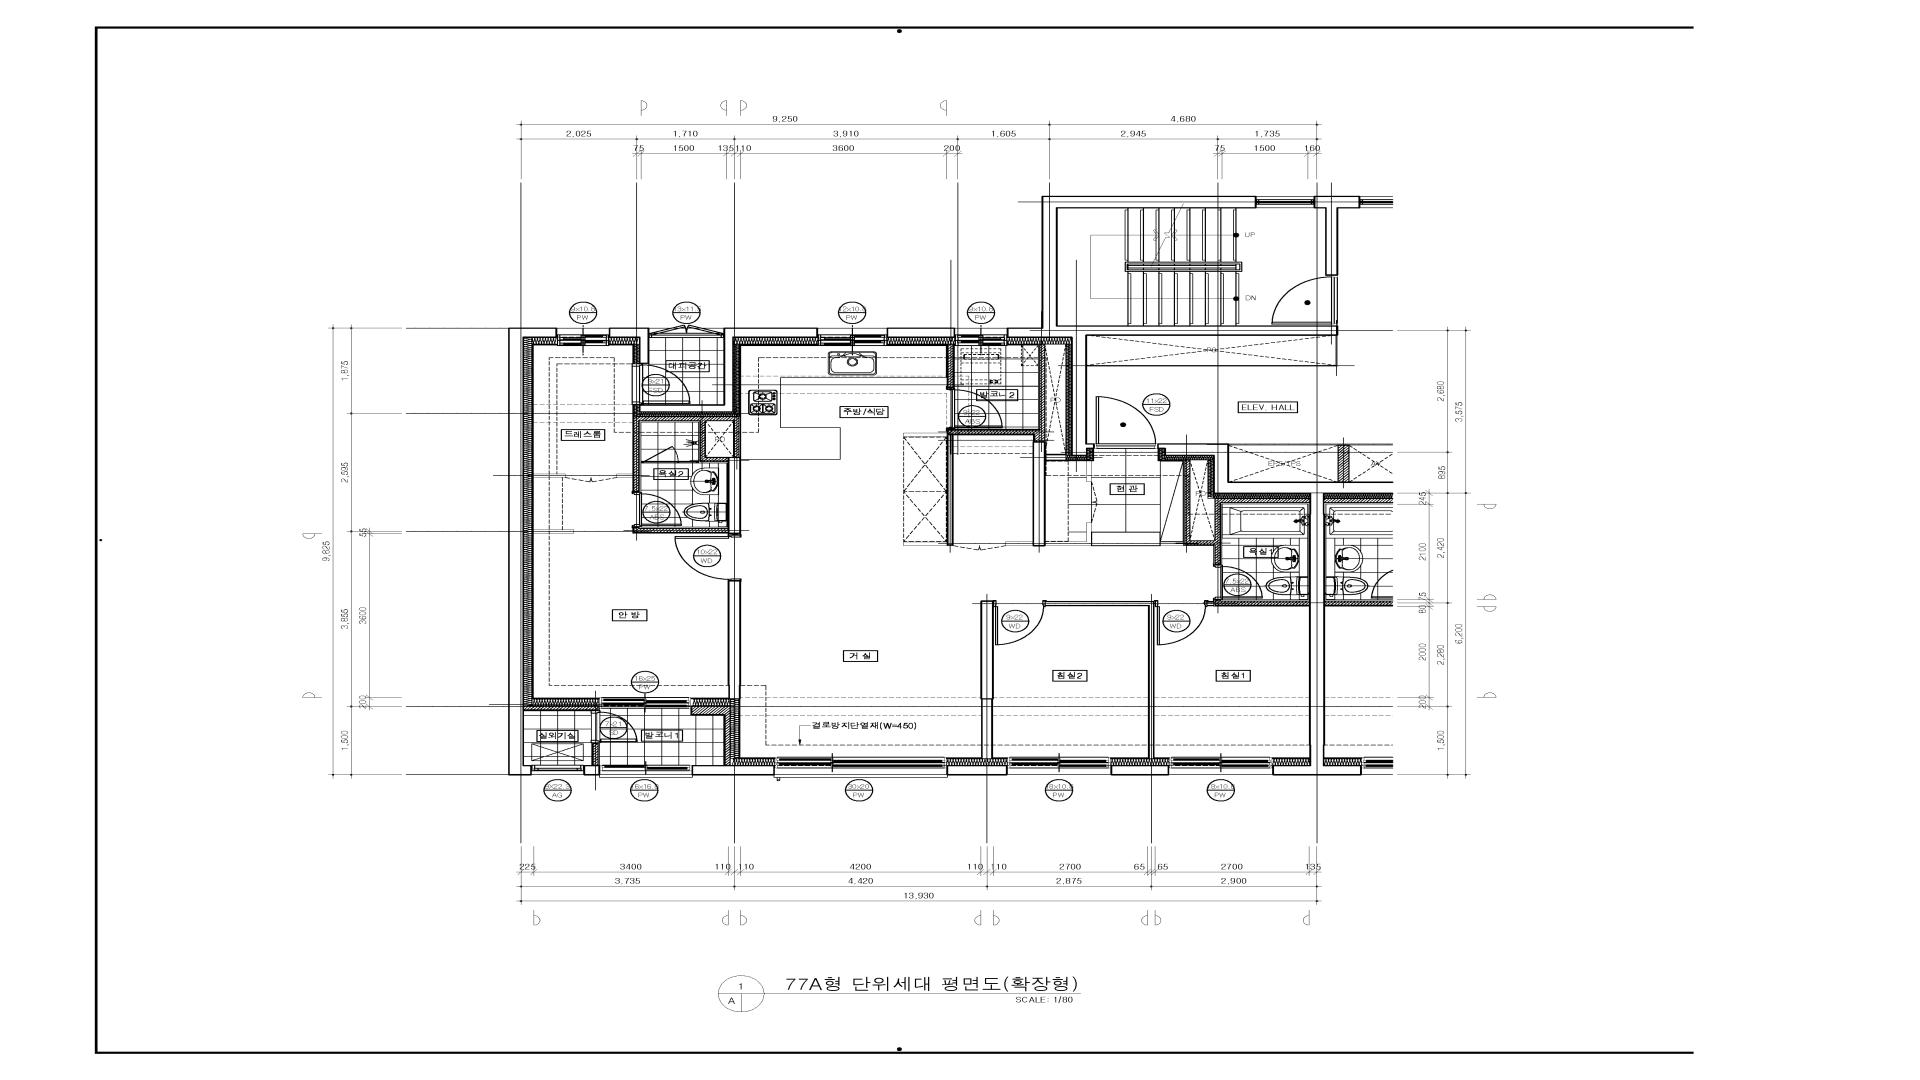door: (1271, 276, 1338, 326), (1095, 396, 1158, 449), (674, 534, 742, 581), (994, 600, 1046, 646), (1155, 600, 1207, 646), (632, 364, 691, 404), (946, 388, 1003, 429), (632, 492, 682, 527), (1213, 565, 1263, 599), (591, 711, 638, 743), (650, 325, 723, 338), (644, 446, 679, 463), (565, 475, 617, 482), (954, 544, 1006, 551), (1091, 482, 1098, 523)
wall: (1007, 196, 1339, 456), (1157, 443, 1393, 776), (903, 344, 1045, 546), (508, 328, 557, 776), (1046, 601, 1155, 759), (639, 328, 818, 413), (1184, 459, 1309, 565), (617, 416, 741, 492), (1087, 336, 1338, 367), (1006, 442, 1067, 547), (1314, 196, 1360, 276), (691, 705, 731, 765), (980, 600, 994, 759), (728, 581, 741, 699), (609, 328, 650, 364), (1046, 523, 1092, 546), (728, 457, 741, 534), (692, 765, 775, 776), (1207, 599, 1309, 607), (632, 526, 728, 534), (946, 765, 1008, 776), (887, 328, 955, 338), (1111, 765, 1169, 776), (1338, 446, 1350, 482), (946, 344, 955, 388), (524, 706, 599, 711), (1229, 444, 1393, 446), (591, 743, 600, 765), (584, 765, 600, 776), (534, 530, 574, 534), (1086, 461, 1092, 482), (534, 474, 565, 478)
window: (775, 757, 947, 769), (1169, 757, 1272, 775), (1008, 757, 1111, 775), (774, 769, 948, 778), (818, 328, 887, 346), (599, 697, 691, 709), (955, 328, 1007, 346), (557, 328, 609, 346), (1257, 196, 1314, 208), (600, 771, 692, 778), (600, 765, 692, 771), (531, 765, 584, 775)
